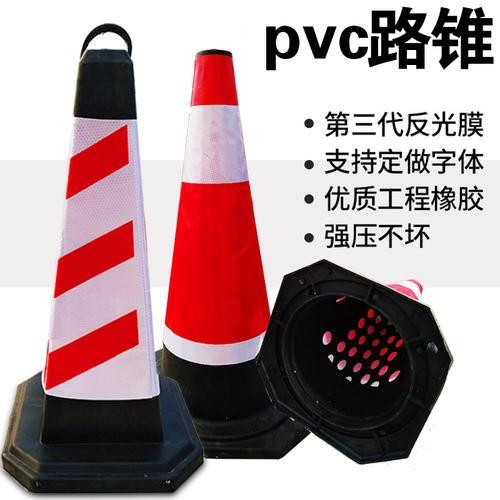cone_barrel: (10, 33, 192, 492), (152, 51, 280, 419)
